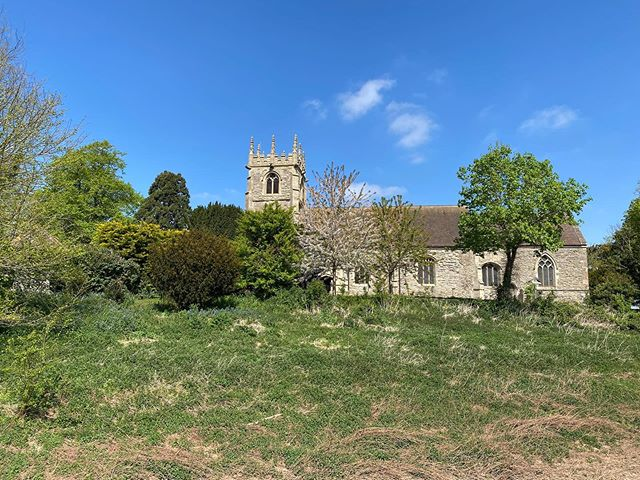building: (263, 154, 582, 308)
grass: (2, 309, 640, 480)
sky: (62, 1, 634, 195)
tree: (456, 146, 589, 313), (1, 37, 70, 316), (292, 168, 375, 296), (30, 138, 138, 233), (134, 229, 247, 311), (354, 190, 435, 303), (230, 199, 311, 312), (145, 161, 197, 233)
